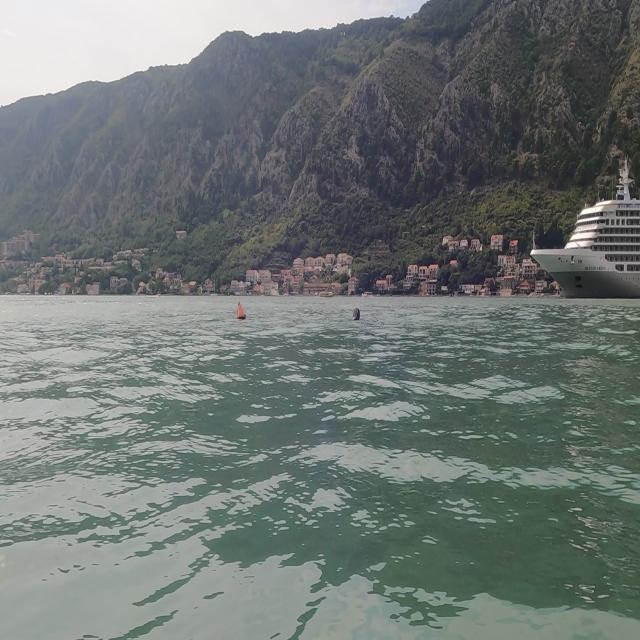boat: (520, 143, 640, 311)
buoy: (232, 296, 249, 328), (345, 300, 367, 324)
